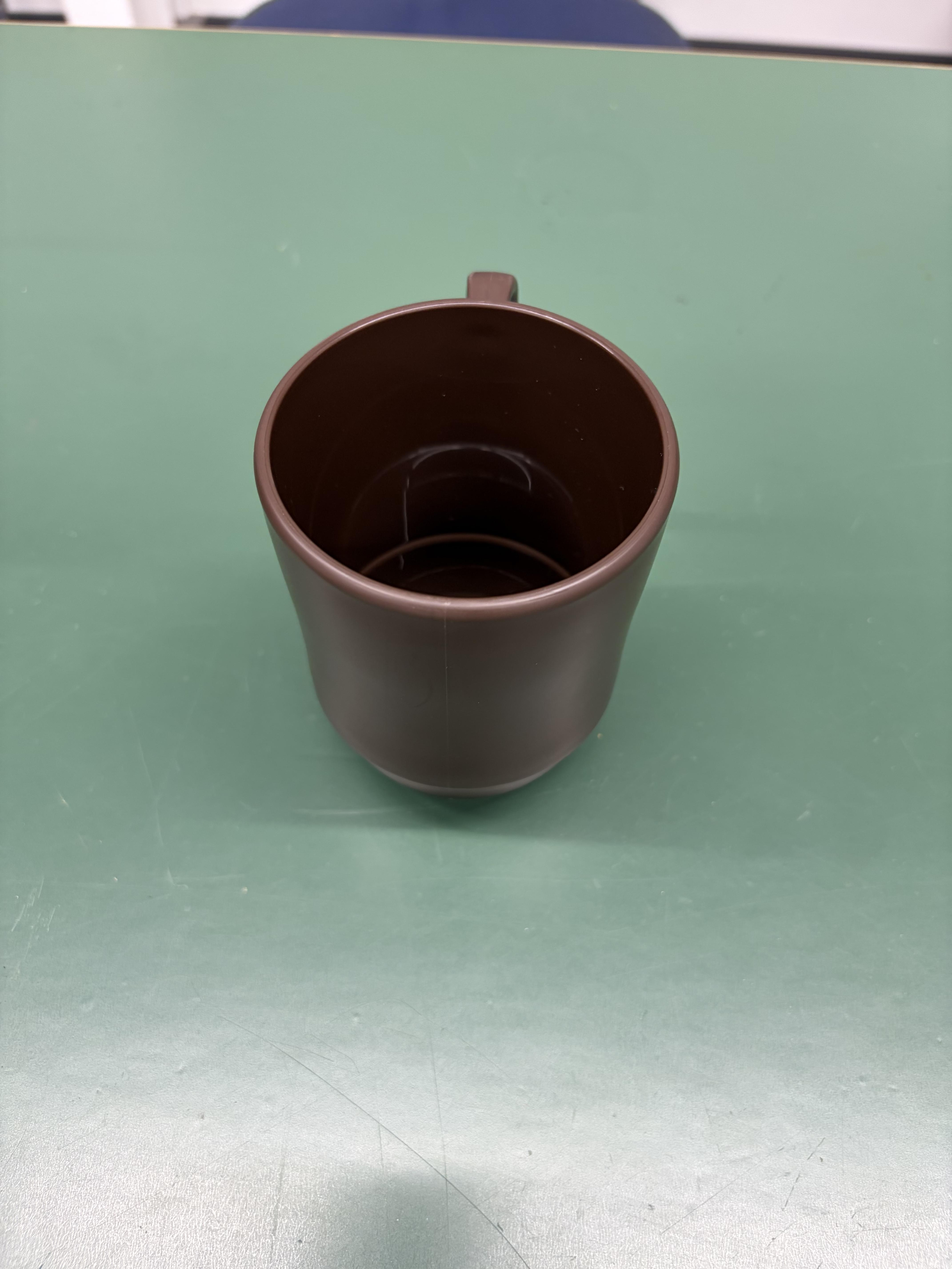mug-real100-3d100: (254, 273, 679, 797)
